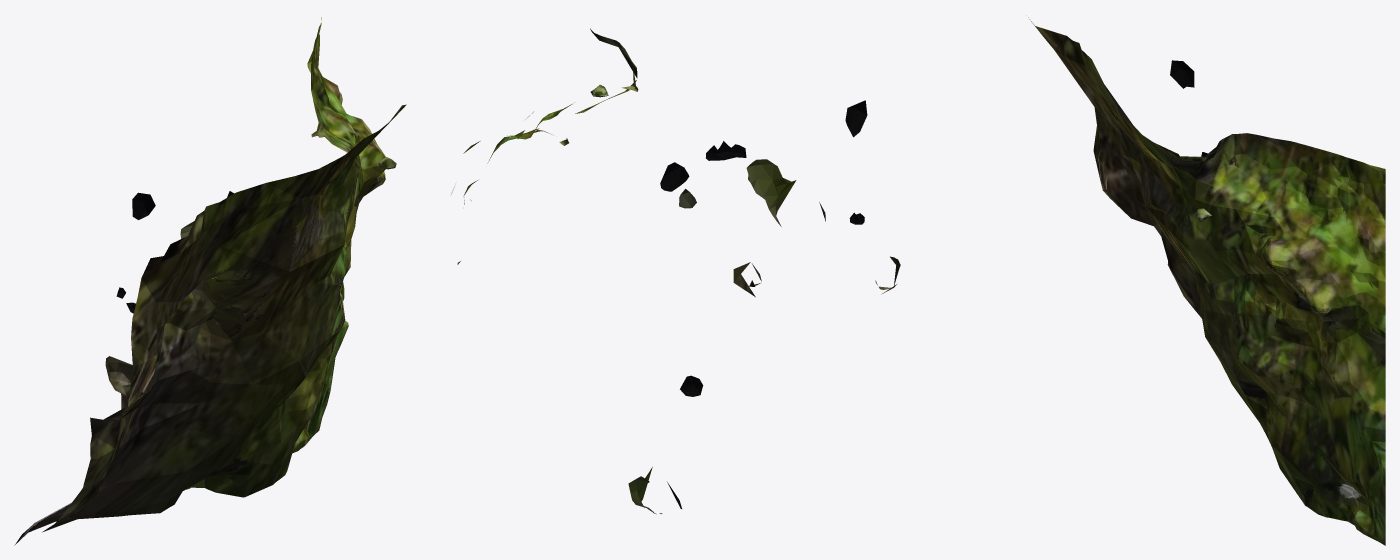
The picture shows the model from 3 angles, left to right: view 1: azimuth 30°, elevation 25°; view 2: azimuth 150°, elevation 25°; view 3: azimuth 270°, elevation 25°; orthographic projection. The views are drawn at different scales.
Size of the model in its own units: 0.8073 by 0.8373 by 0.7232.
4 materials, 4 textured.
